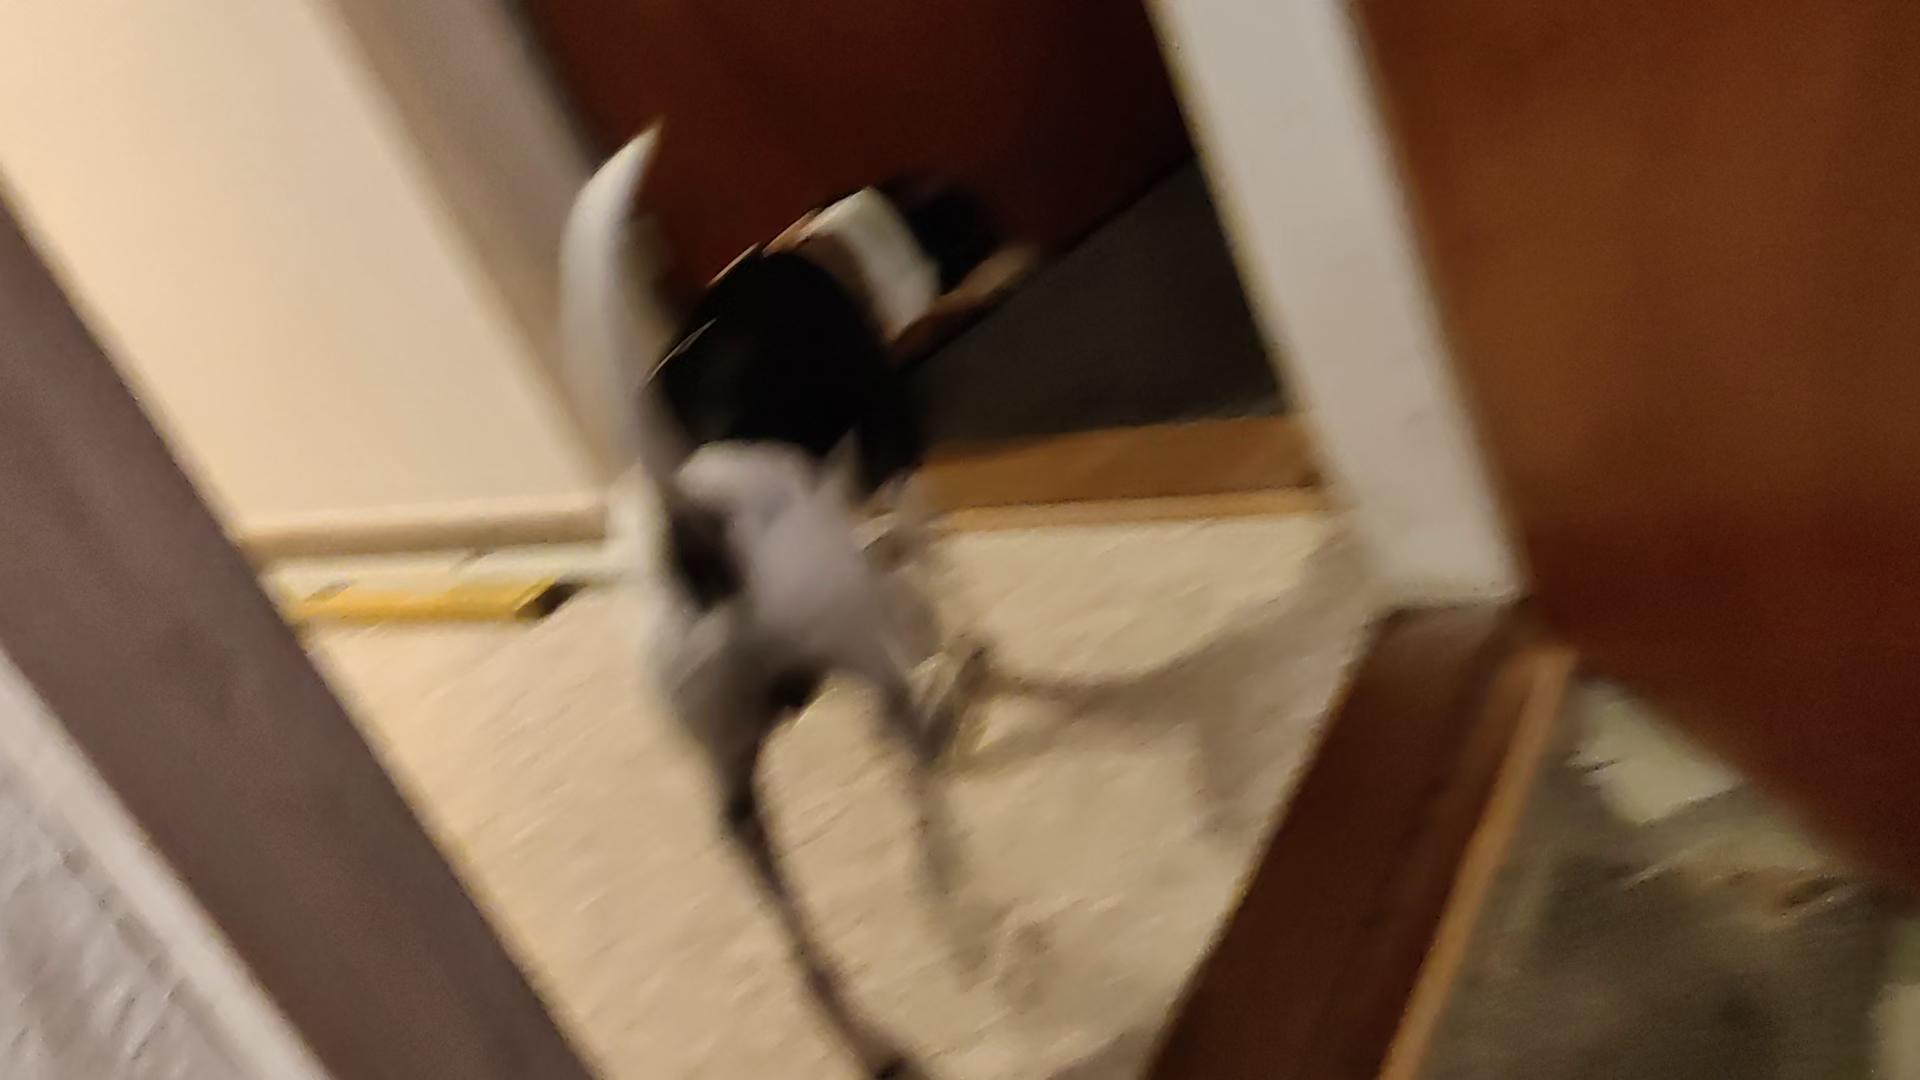Dog: (547, 95, 1076, 1079)
